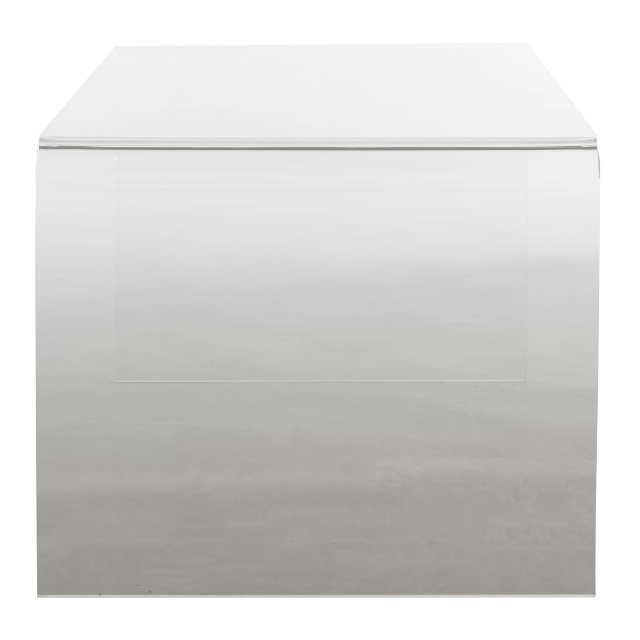obstacle: (37, 44, 598, 595)
